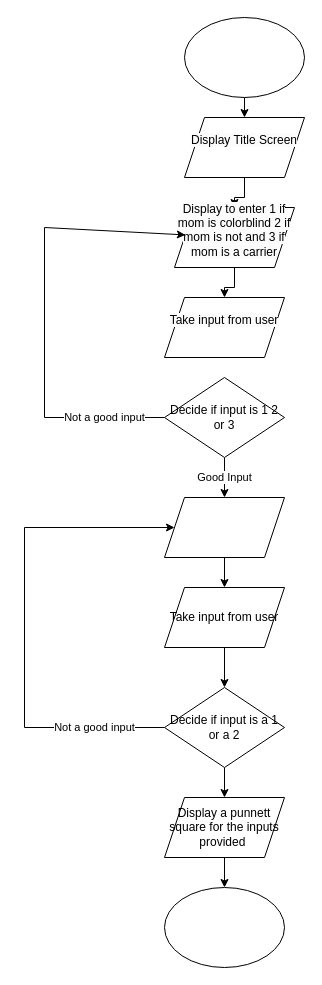
Some shapes in this 322 by 985 pixel diagram are drawn without their labels. The box of each missing label's shape, as (x1, y1, x2, y2) in pixels:
Display to enter 1 if dad is colorblind 2 if dad is not: (164, 496, 284, 558)
End: (164, 886, 284, 968)
Start: (184, 16, 304, 98)
